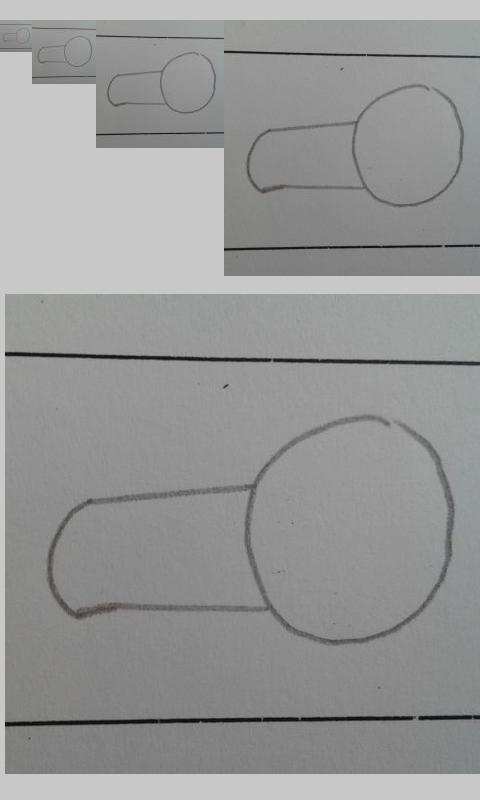switch: (47, 414, 459, 646), (246, 83, 464, 208), (106, 51, 217, 114), (37, 35, 93, 67), (3, 27, 31, 44)
